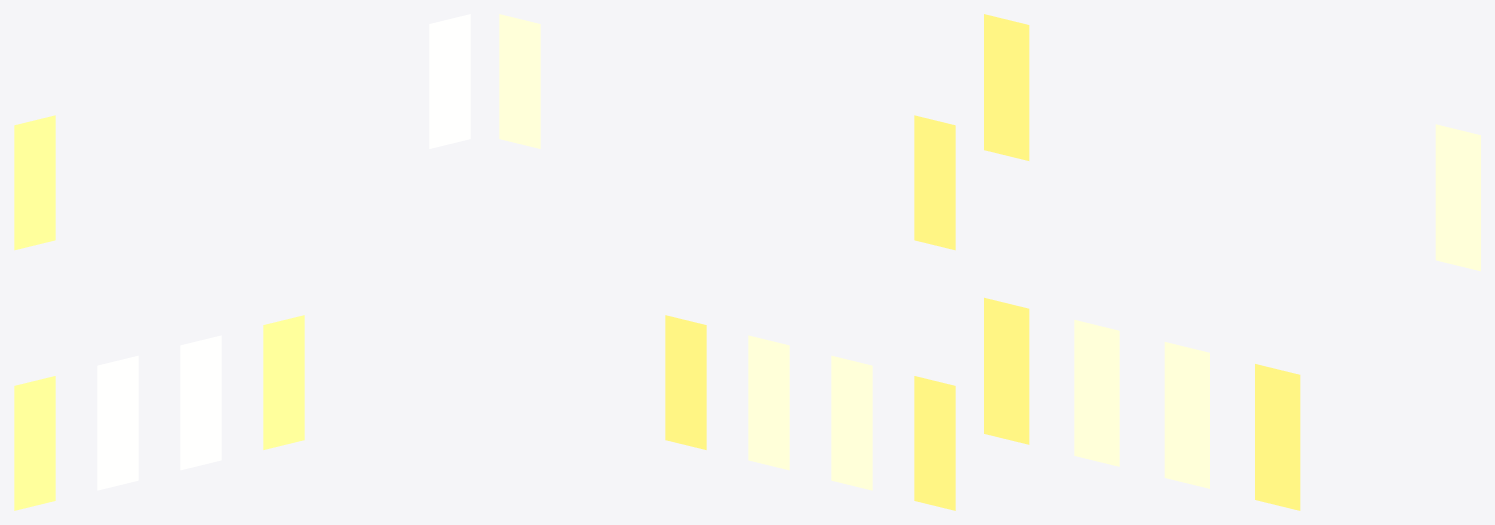
File: window-lights-2.glb
3 renders of one model, left to right at view 1: azimuth 30°, elevation 25°; view 2: azimuth 150°, elevation 25°; view 3: azimuth 330°, elevation 25°, orthographic. The views are drawn at different scales.
Visible parts, largest first — view 1: window warm, window amber; view 2: window warm, window amber; view 3: window amber, window warm.
Boxes of the visible parts, x1=… form: window warm: x1=97, y1=14, x2=470, y2=490; window amber: x1=14, y1=115, x2=304, y2=510; window warm: x1=499, y1=14, x2=872, y2=490; window amber: x1=665, y1=115, x2=955, y2=510; window amber: x1=984, y1=14, x2=1300, y2=510; window warm: x1=1074, y1=124, x2=1480, y2=488.
Bounding box in the file's own units: 0.9167 × 0.74 × 0.
